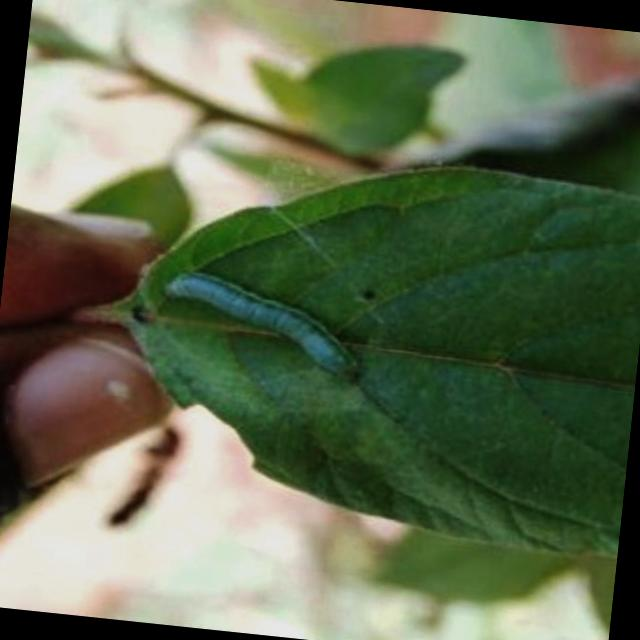Beet armyworm: (130, 209, 396, 405)
